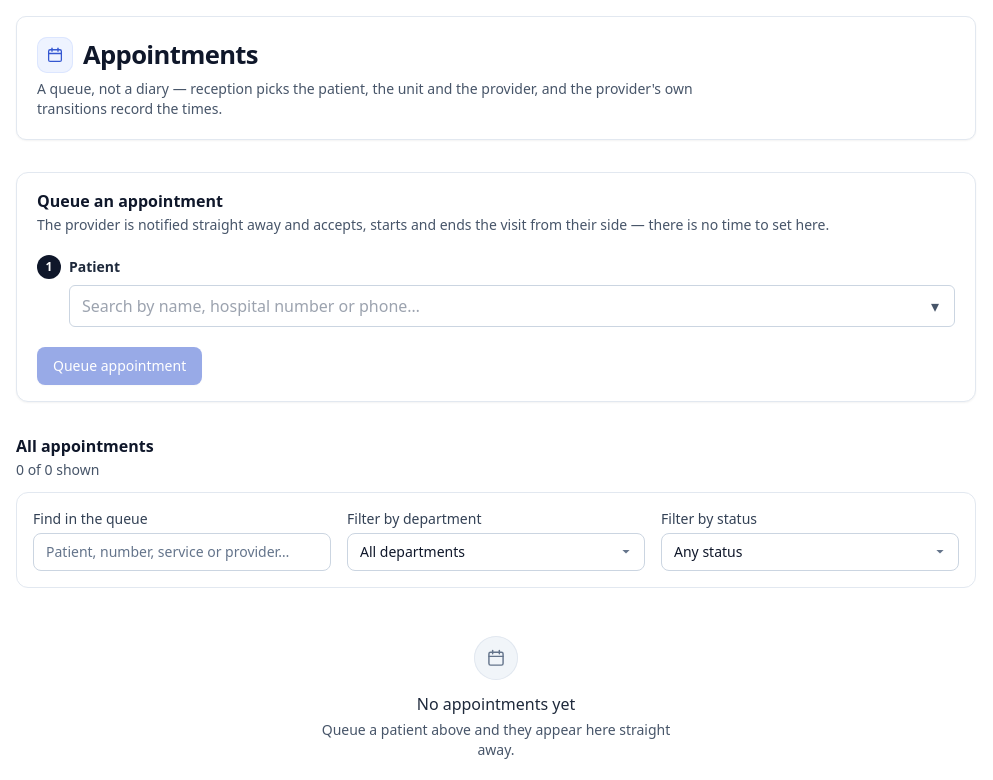
it: the booking form, step by step › filters the services to the chosen department
The width and height of the screenshot is (993, 780).
Click the dropdown with placeholder "Search by name, hospital number or phone…" at (512,306), box [69,285,955,327]
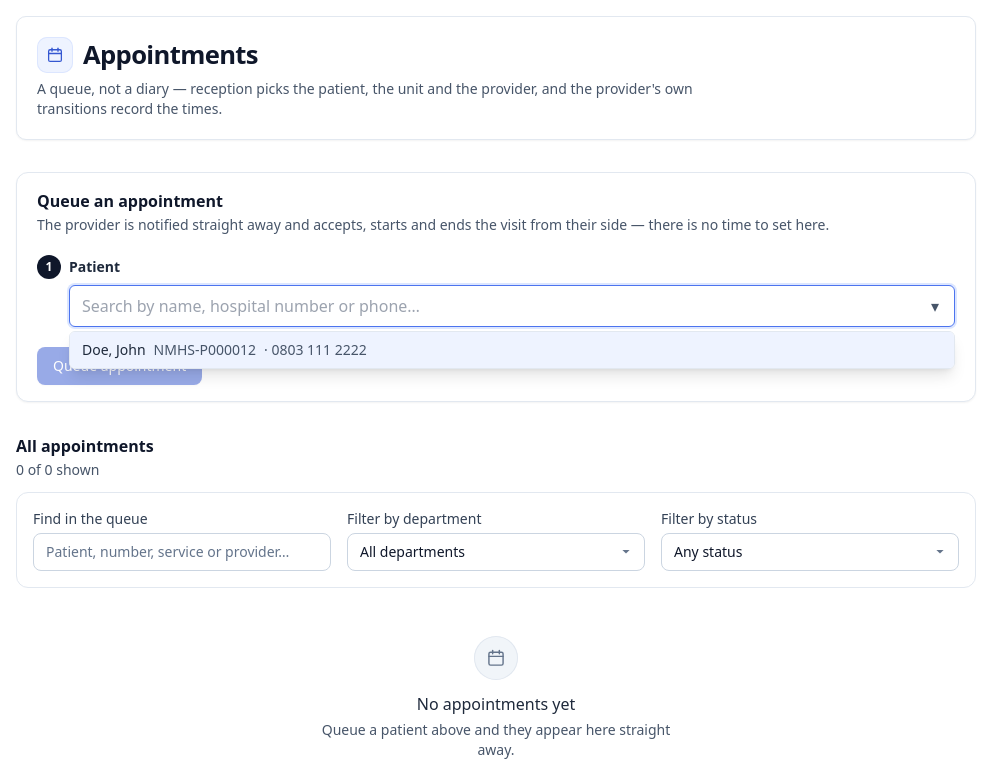
Click the button "Doe, John" at (114,350), box [70,332,954,368]
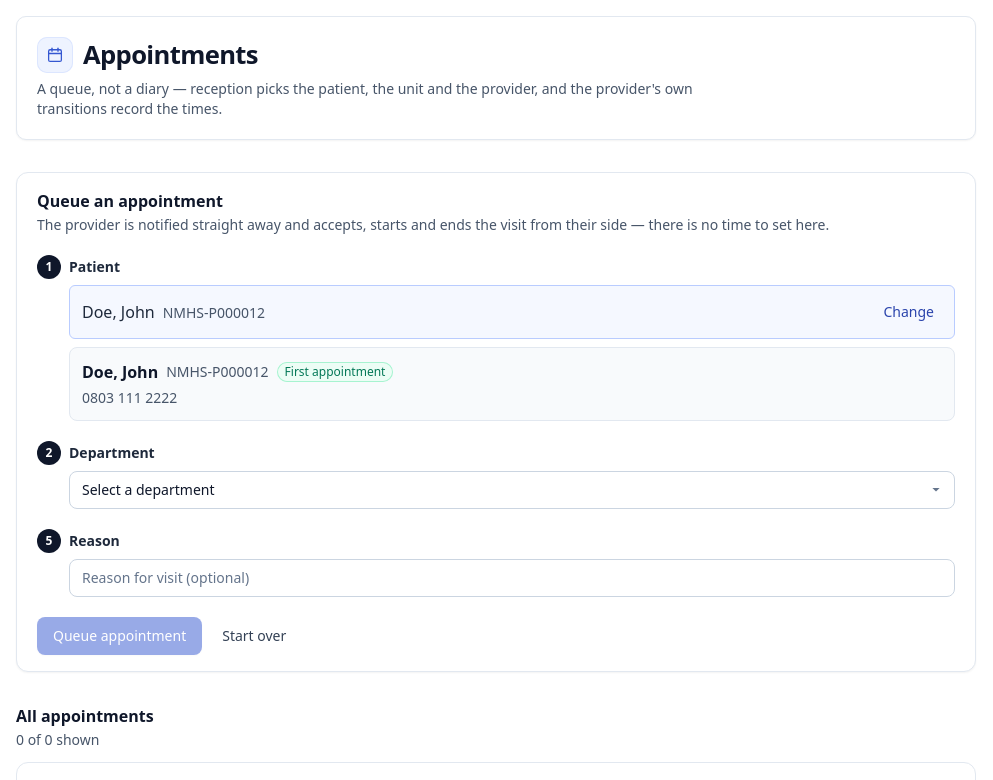
Select "Eye Clinic" in the dropdown named "Department" at (512,490), box [69,471,955,509]
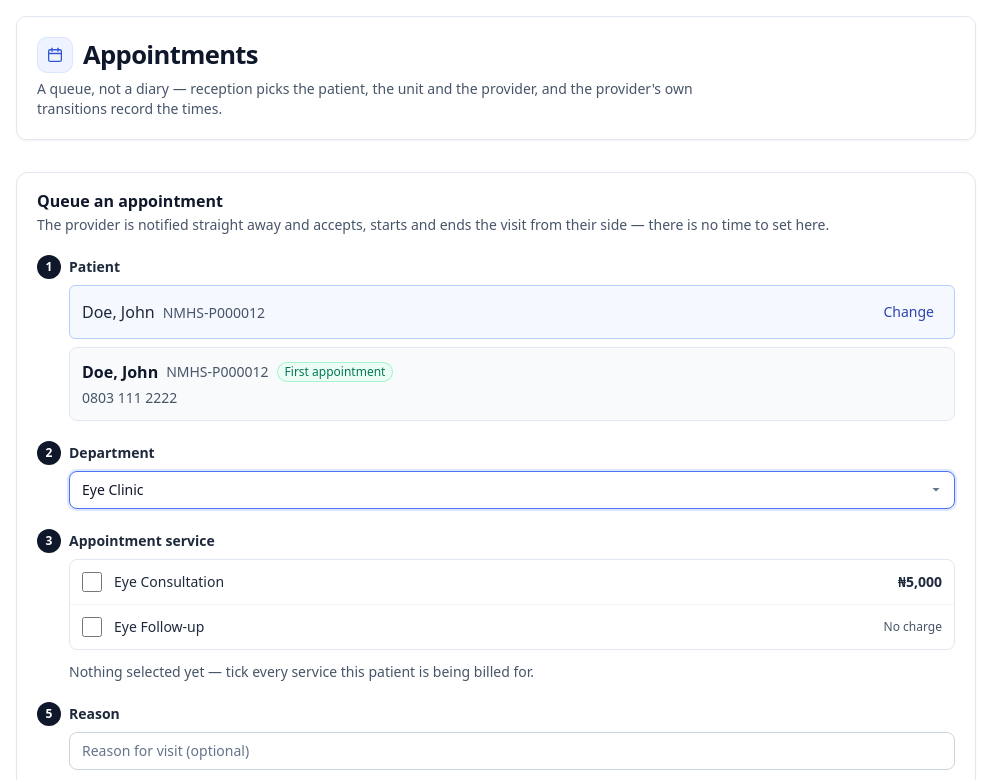
Expected: the checkbox labelled "Eye Consultation ₦5,000" is shown, [82,572,102,592]
